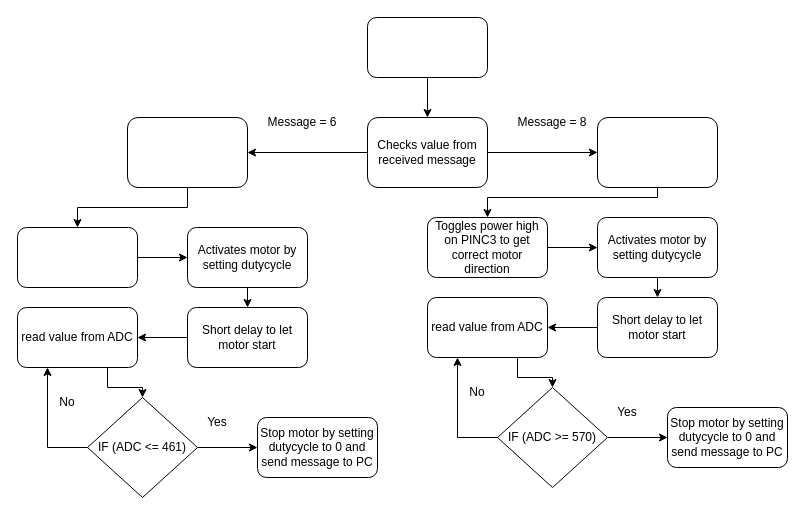
The diagram is 805 pixels wide and 515 high, and some of its shapes have lost their labels. The box of each missing label's shape, as (x1, y1, x2, y2) in pixels:
Atmega receives message: (366, 16, 488, 78)
Re enable global interupts and call CloseGripper function: (126, 116, 248, 188)
Re enable global interupts and call OpenGripper function: (596, 116, 718, 188)
Toggles power low on PINC3 to get correct motor direction: (16, 226, 138, 288)
